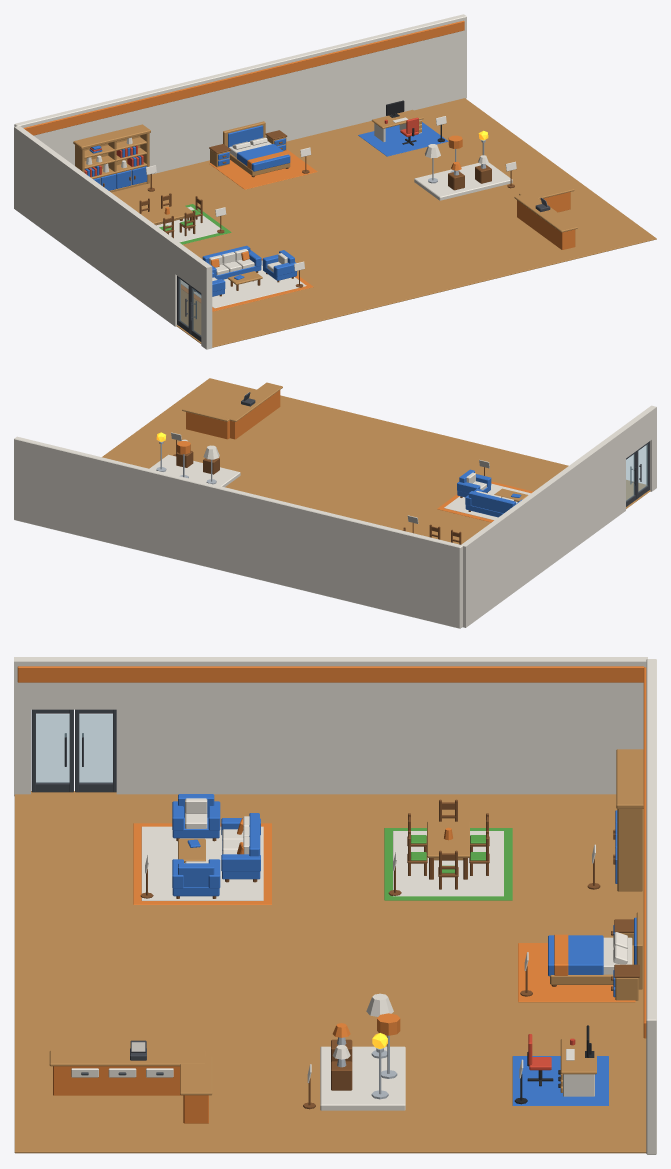
File: furniture-store-showroom.glb
The picture shows the model from 3 angles, top to bottom: view 1: azimuth 30°, elevation 25°; view 2: azimuth 150°, elevation 25°; view 3: azimuth 270°, elevation 25°; orthographic projection. The views are drawn at different scales.
Parts seen in each view (by area): view 1: Floor, Wall_Back, Wall_Left, Band_Back, LampSection_Plinth, SofaSet_RugInner, BedDisplay_Rug, OfficeDesk_Rug, Counter_Body, Bed_Duvet, Shelf_Top, Counter_Top (+3 smaller); view 2: Wall_Back, Floor, Wall_Left, LampSection_Plinth, Counter_Body, Counter_ReturnBody, Counter_Top, Sofa_Back, SofaSet_RugInner, Counter_ReturnTop, Door_L_Glass, SofaSet_Rug (+1 smaller); view 3: Floor, Wall_Left, Band_Left, Wall_Back, DiningSet_RugInner, LampSection_Plinth, SofaSet_RugInner, Counter_Body, BedDisplay_Rug, OfficeDesk_Rug, Counter_Top, Door_L_Glass (+13 smaller).
Part boxes in pixels (x1,y1,x2,y2): Floor: (111, 98, 656, 347); Wall_Back: (14, 14, 466, 174); Wall_Left: (14, 126, 212, 349); Band_Back: (23, 20, 464, 135); LampSection_Plinth: (414, 162, 512, 200); SofaSet_RugInner: (181, 260, 306, 308); BedDisplay_Rug: (209, 149, 317, 189); OfficeDesk_Rug: (358, 122, 448, 156); Counter_Body: (517, 200, 575, 249); Bed_Duvet: (237, 144, 290, 171); Shelf_Top: (73, 124, 150, 149); Counter_Top: (514, 192, 577, 232); Wall_Back: (14, 436, 462, 628); Floor: (102, 378, 650, 544); Wall_Left: (461, 405, 656, 627); LampSection_Plinth: (149, 454, 240, 487); Counter_Body: (230, 390, 280, 439); Counter_ReturnBody: (186, 412, 229, 439); Counter_Top: (220, 382, 282, 421); Sofa_Back: (468, 491, 515, 513); SofaSet_RugInner: (444, 483, 530, 520); Counter_ReturnTop: (182, 402, 229, 421); Door_L_Glass: (638, 444, 647, 491); SofaSet_Rug: (437, 481, 533, 522); Floor: (14, 791, 646, 1153); Wall_Left: (14, 657, 647, 796); Band_Left: (17, 666, 643, 682); Wall_Back: (646, 659, 656, 1154); DiningSet_RugInner: (393, 831, 503, 896); LampSection_Plinth: (320, 1046, 405, 1110); SofaSet_RugInner: (141, 826, 263, 900); Counter_Body: (53, 1066, 182, 1095); BedDisplay_Rug: (518, 943, 635, 1002); OfficeDesk_Rug: (512, 1056, 608, 1105); Counter_Top: (49, 1050, 205, 1066); Door_L_Glass: (36, 714, 69, 782).
Bounding box in the file's own units: 80.56 × 14 × 60.15.
